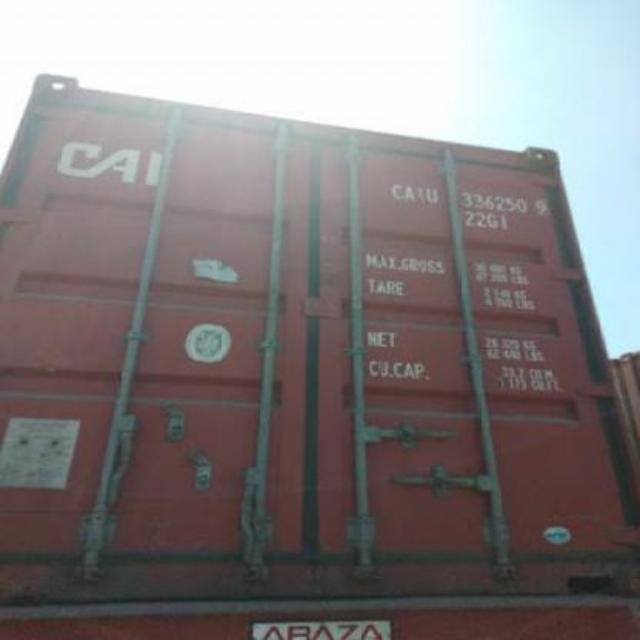0: (516, 193, 530, 214)
2: (494, 192, 508, 212)
3: (462, 191, 474, 207), (474, 191, 484, 209)
5: (506, 192, 518, 212)
6: (484, 191, 496, 209)
9: (536, 200, 548, 214)
A: (404, 182, 416, 202)
C: (388, 178, 404, 202)
I: (418, 183, 424, 201)
U: (426, 181, 439, 207)
